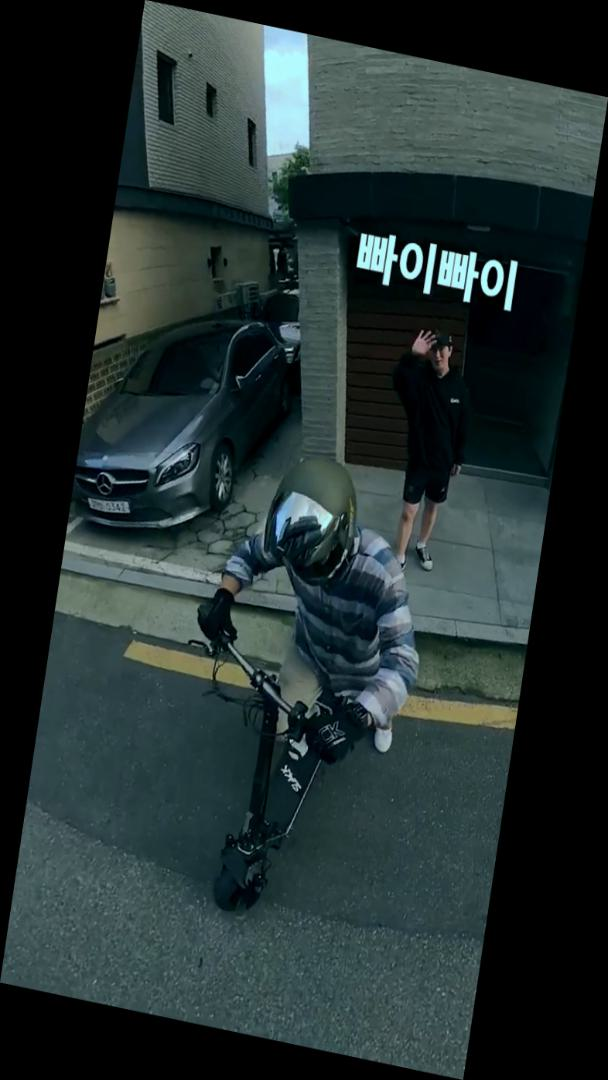helmet: (146, 432, 449, 949)
